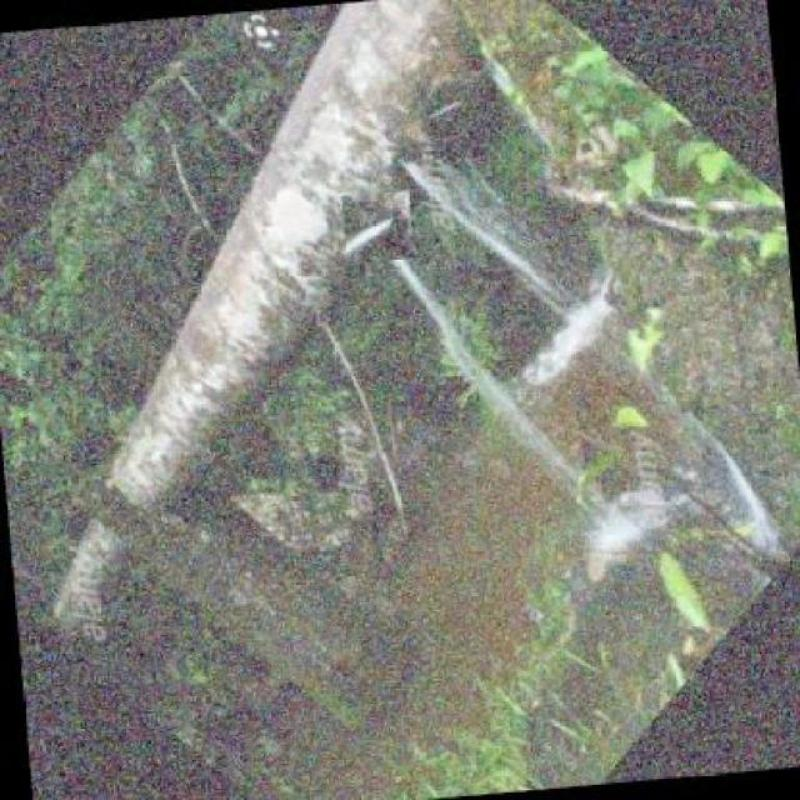Fracture: (269, 56, 604, 429)
